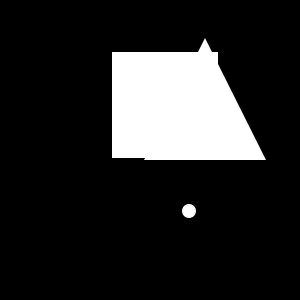circle: (112, 52, 218, 158)
rectangle: (182, 204, 196, 218)
triangle: (144, 38, 266, 160)
